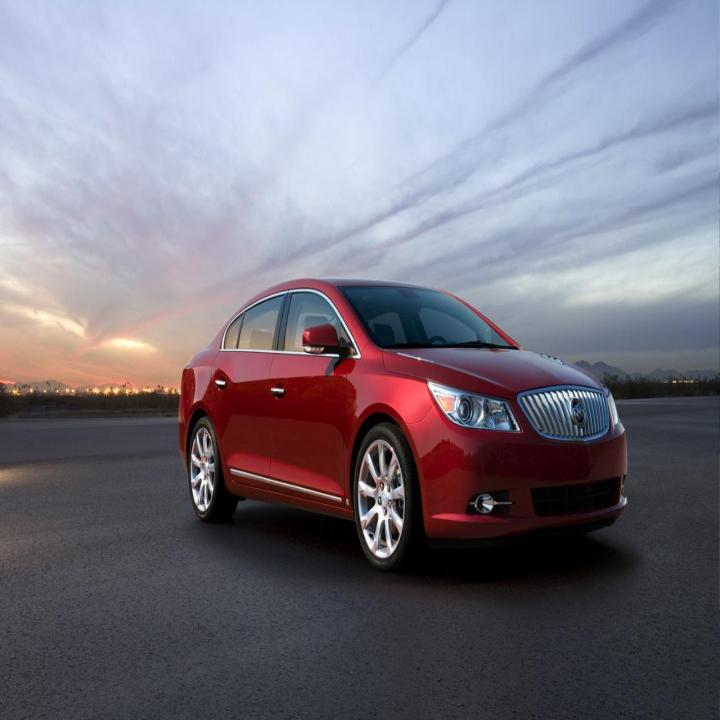car: (178, 276, 628, 572)
